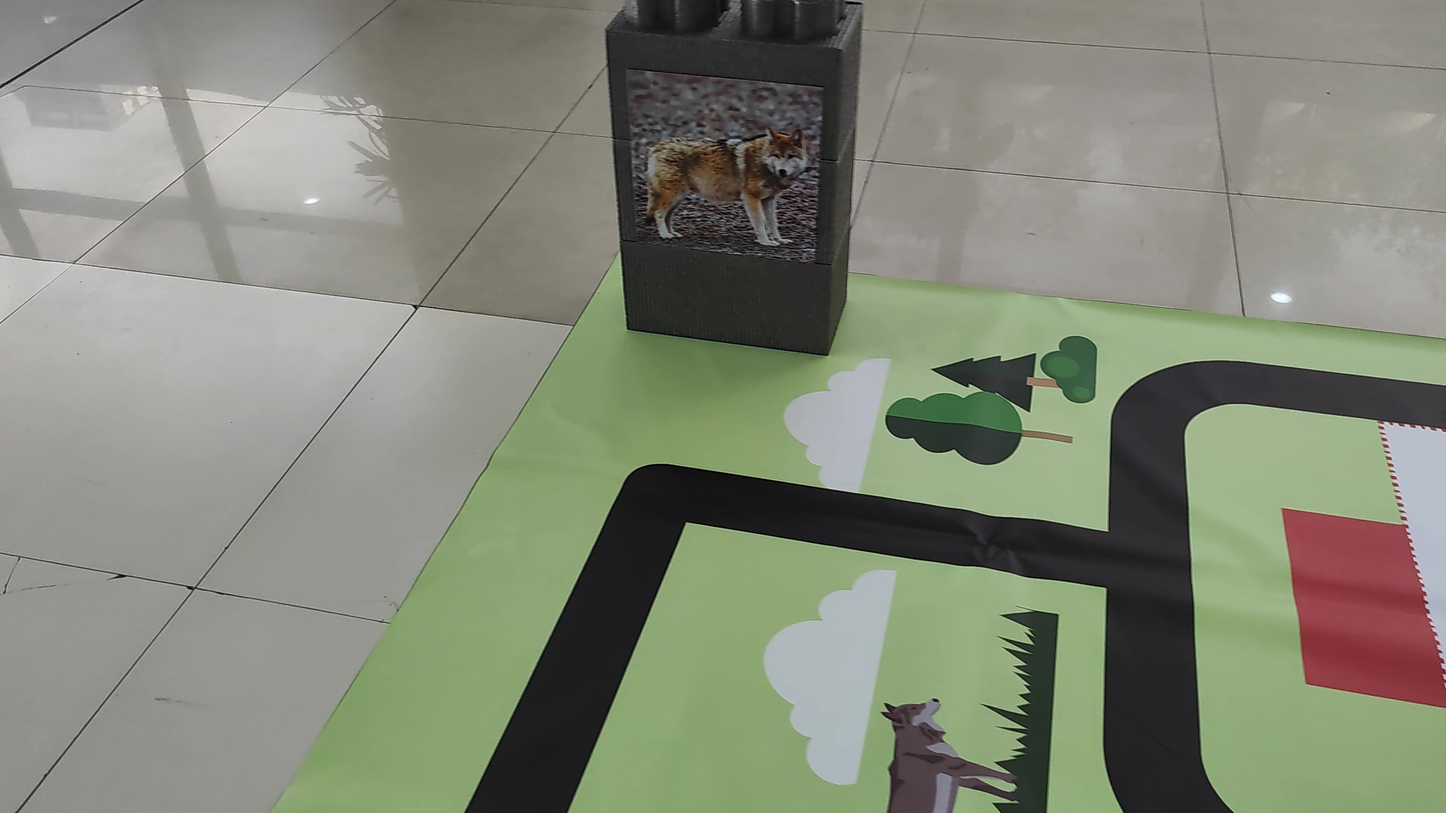wolf: (630, 79, 815, 257)
